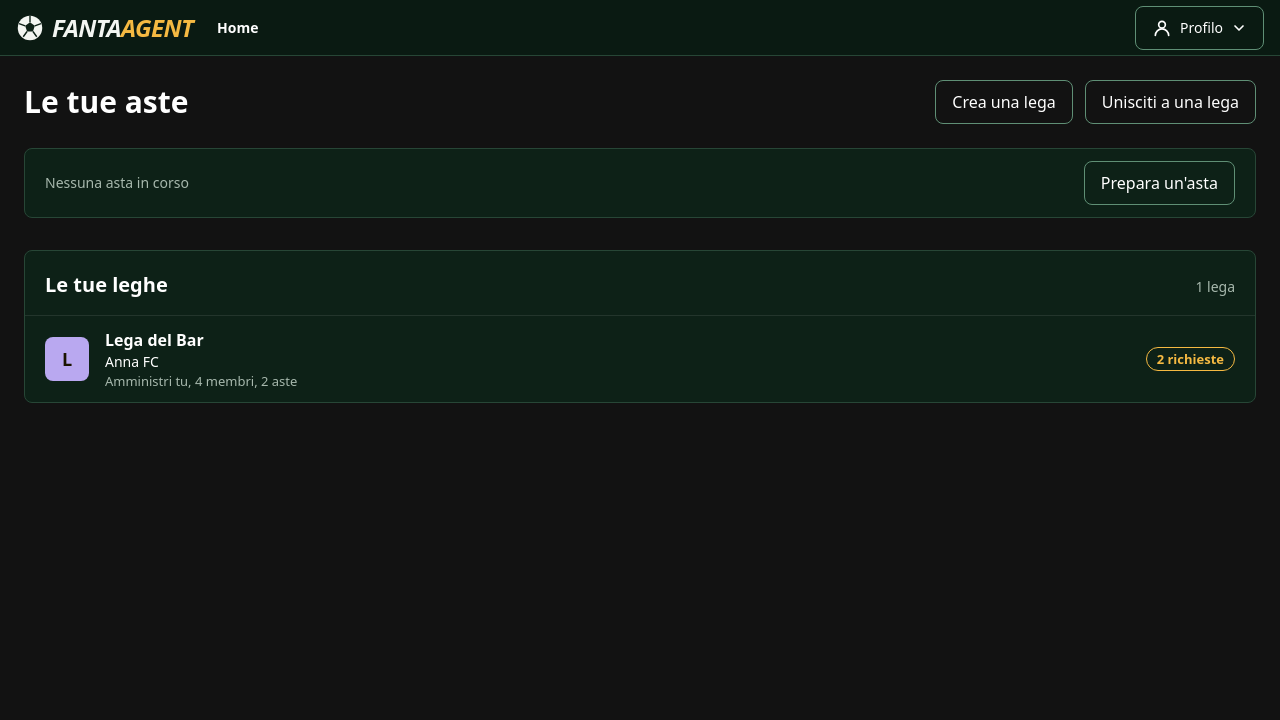
LeaguesRoute › crea e unisciti sono bottoni normali nell intestazione che aprono una finestra
The image size is (1280, 720).
Click the button "Crea una lega". click: (1004, 102)
box: [935,80,1073,124]
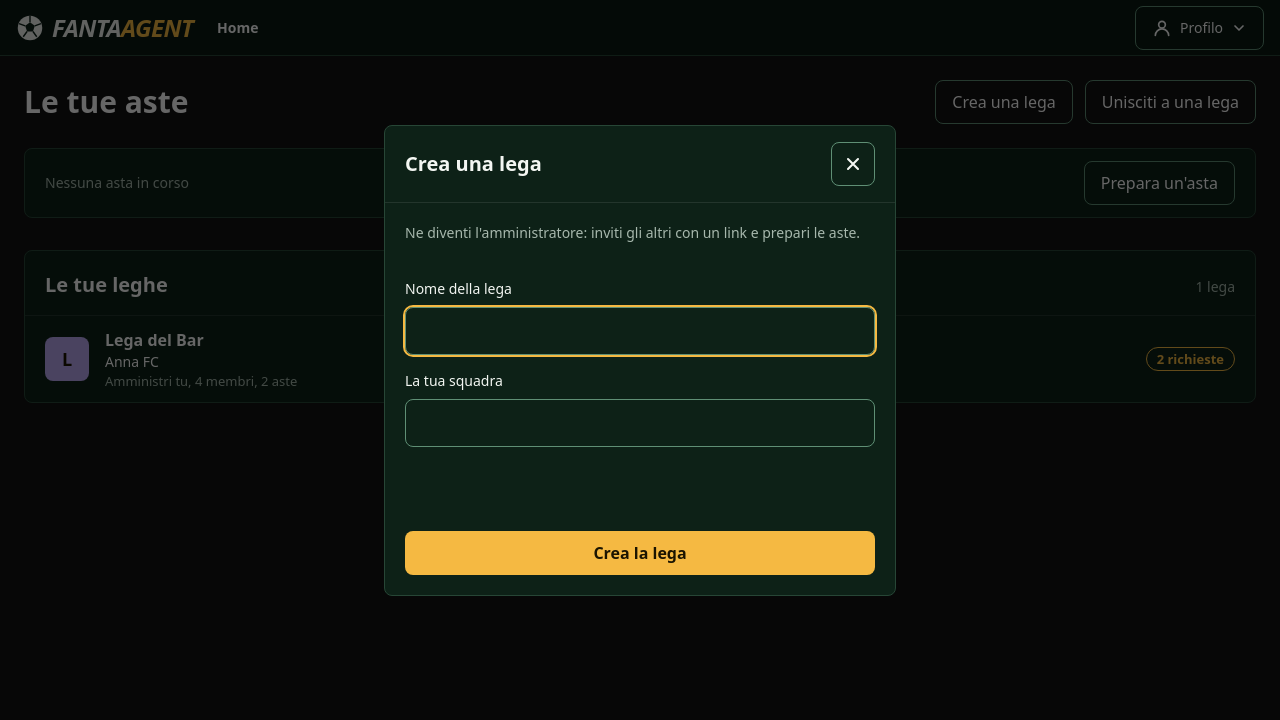
Result: the dialog "Crea una lega" is shown at [384,124,896,596]
Click the button named "Chiudi". click: (853, 164)
box: [831,142,875,186]
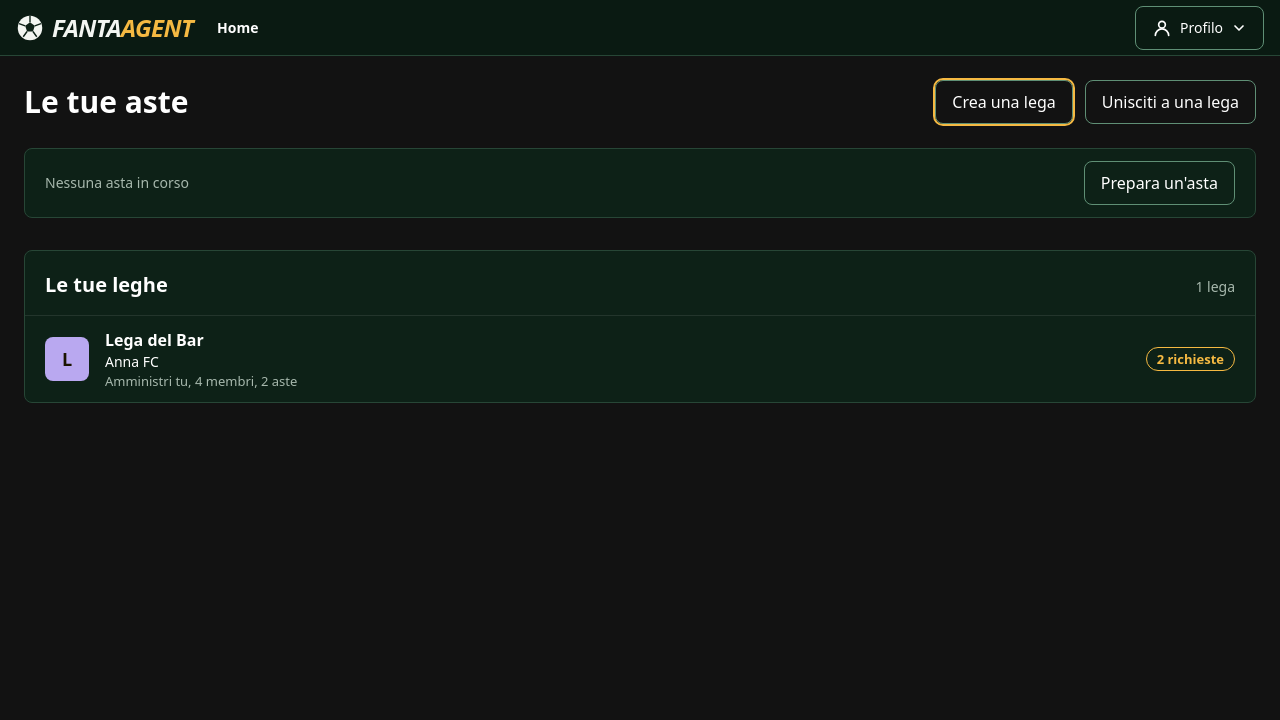
Result: the dialog is gone
Click the button "Unisciti a una lega". click: (1170, 102)
box: [1085,80,1256,124]
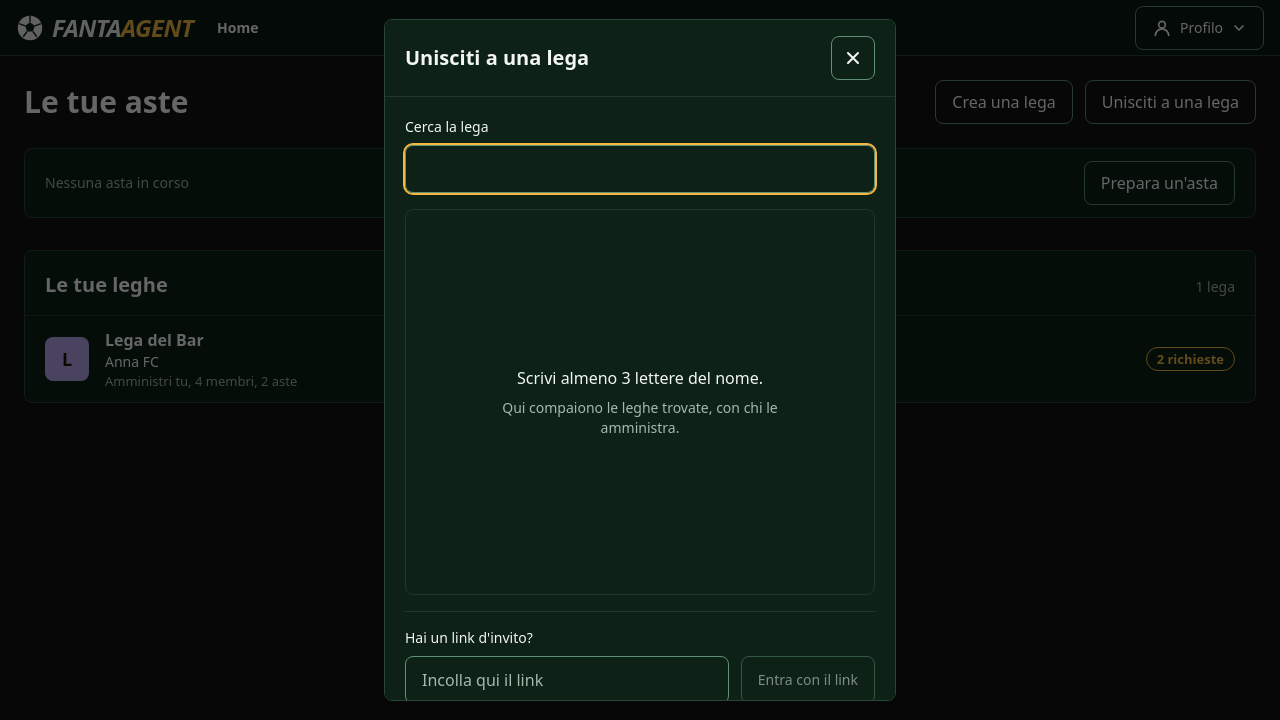
Result: the dialog "Unisciti a una lega" is shown at [384,19,896,701]
